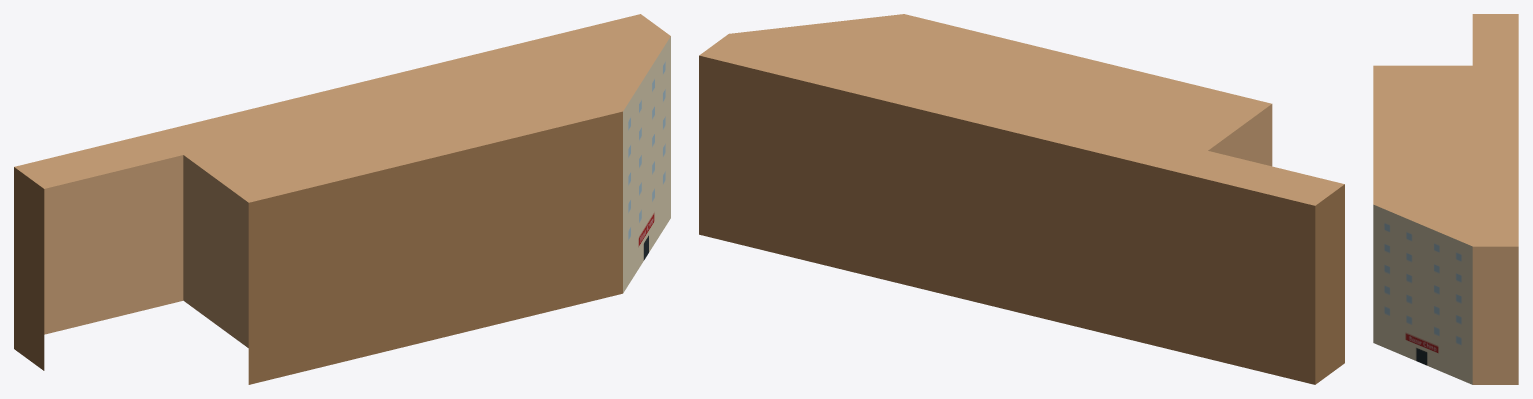
The model's file is flats.glb.
3 views of the same model, side by side, from view 1: azimuth 30°, elevation 25°; view 2: azimuth 150°, elevation 25°; view 3: azimuth 270°, elevation 25° (orthographic). The views are drawn at different scales.
Visible parts, largest first — view 1: Plane; view 2: Plane; view 3: Plane.
Boxes of the visible parts, x1=… form: Plane: x1=14, y1=14, x2=670, y2=384; Plane: x1=699, y1=14, x2=1344, y2=384; Plane: x1=1373, y1=14, x2=1518, y2=384.
Size of what is drawn, in the model's own units: 72 by 20 by 19.
Materials: 3 (1 with a texture image).
